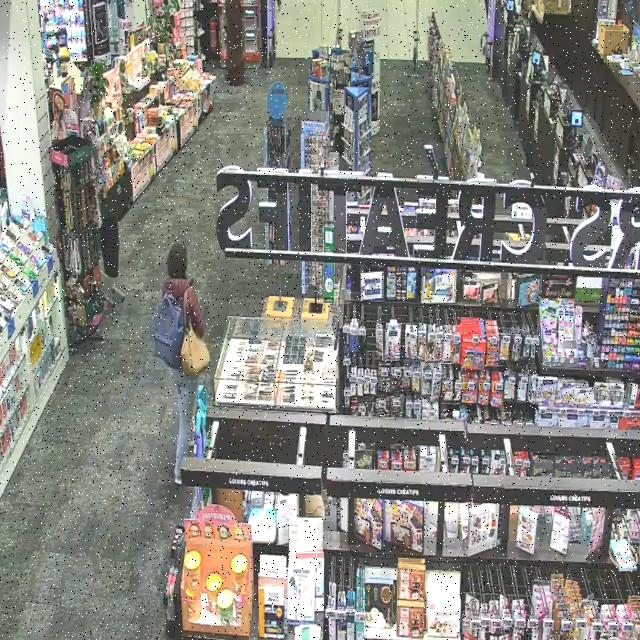bags: (155, 294, 185, 368), (182, 299, 210, 375)
person: (171, 369, 197, 484)
